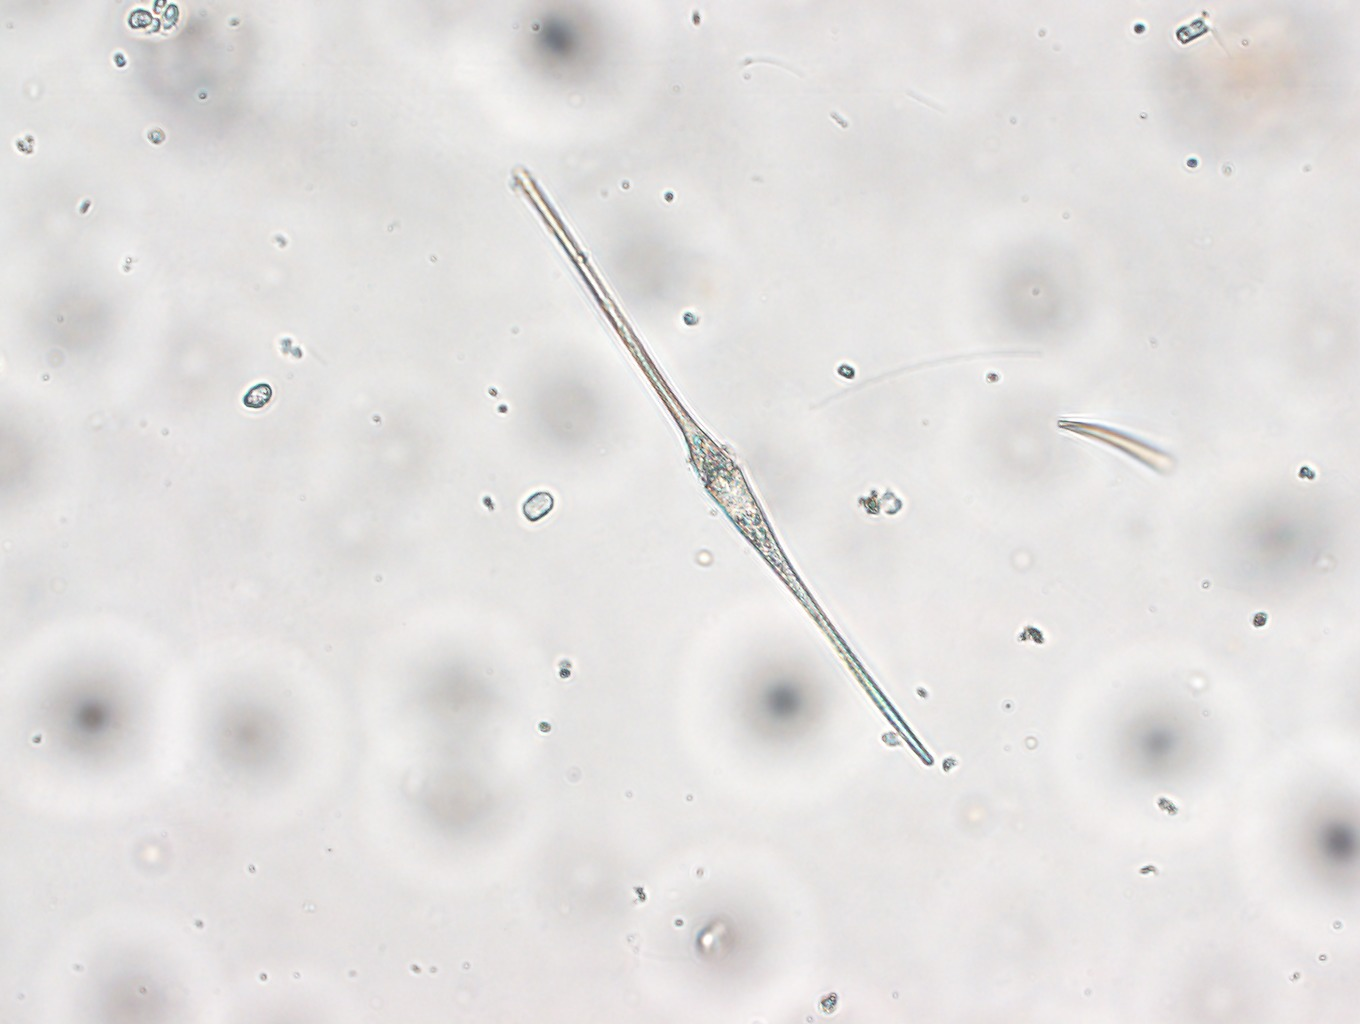ceratium fusus: (503, 159, 937, 767)
